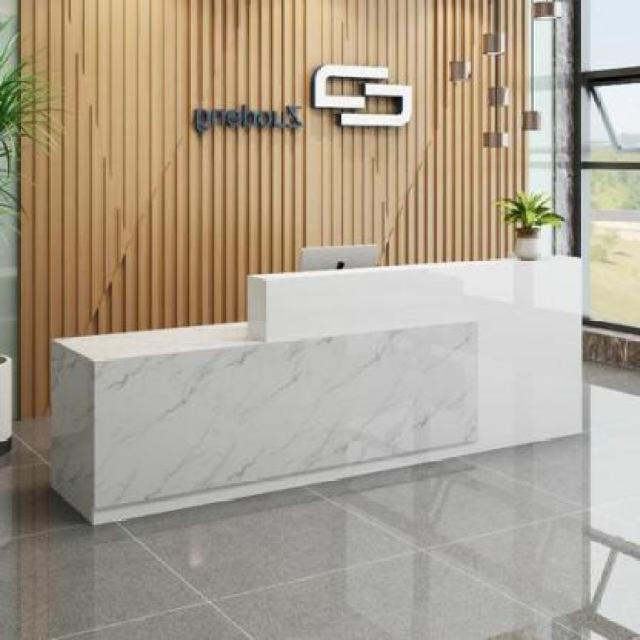frontdesk: (37, 244, 594, 534)
